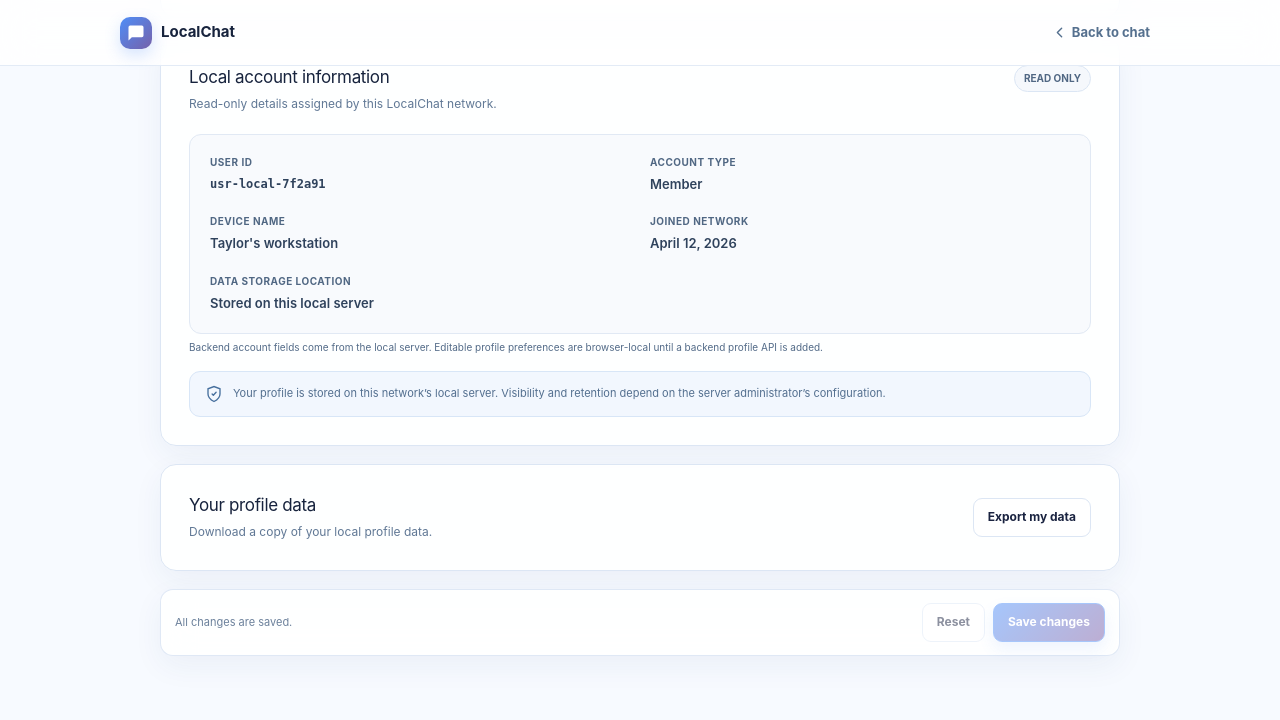
Test: ProfilePage › offers the export-only profile action
The width and height of the screenshot is (1280, 720).
(page scrolled)
Click the button "Export my data". click: (1032, 517)
box: [973, 498, 1091, 537]
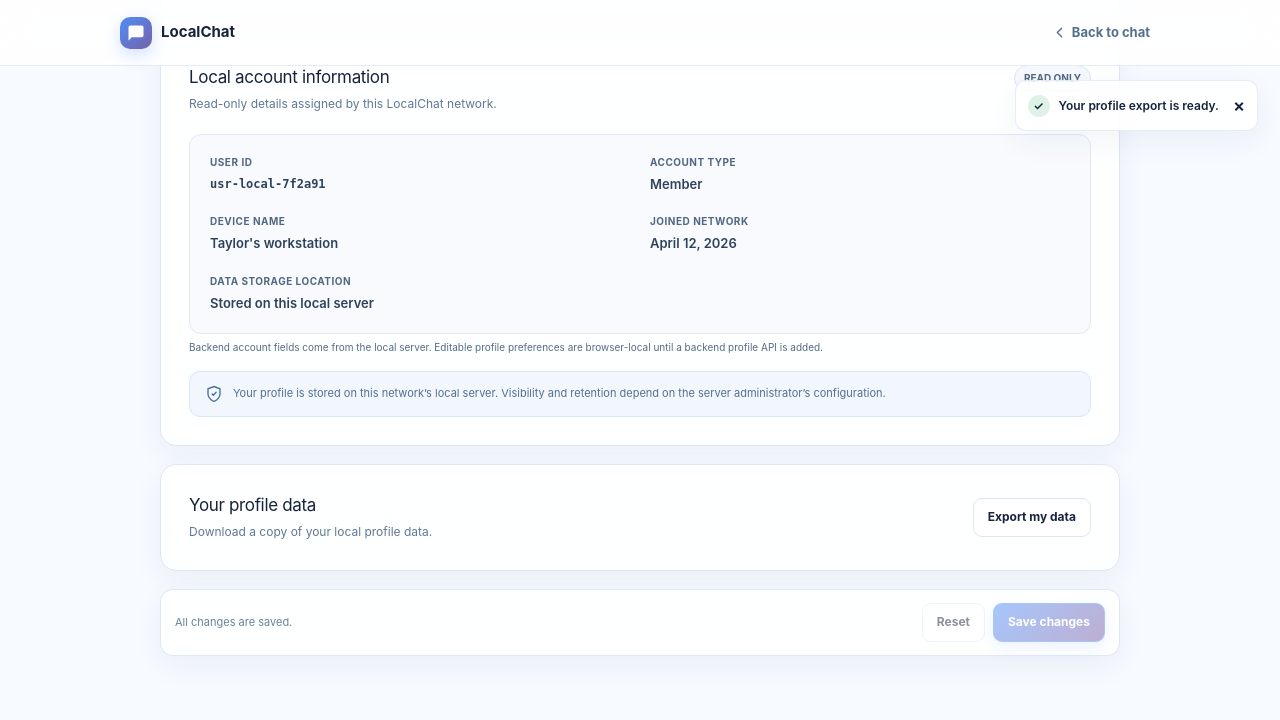
expect the message shows "Your profile export is ready.": met, box [1059, 98, 1219, 112]
